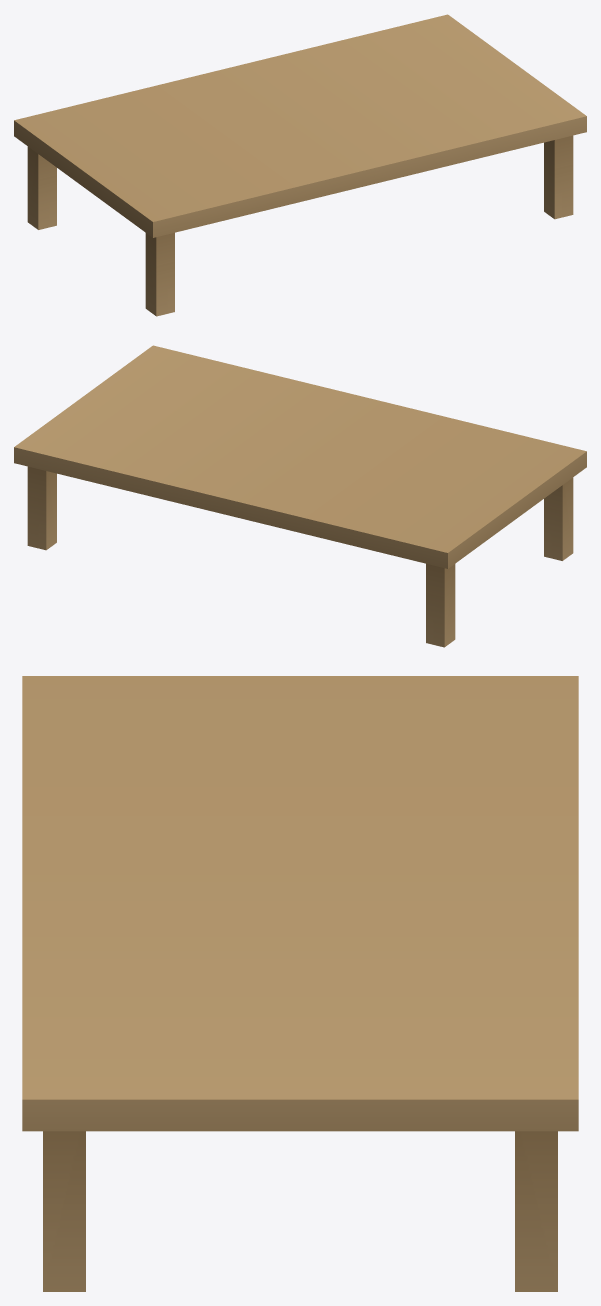
File: Kitchen Table.fbx
The picture shows the model from 3 angles, top to bottom: view 1: azimuth 30°, elevation 25°; view 2: azimuth 150°, elevation 25°; view 3: azimuth 270°, elevation 25°; orthographic projection. The views are drawn at different scales.
Visible parts, largest first — view 1: Kitchen Table; view 2: Kitchen Table; view 3: Kitchen Table.
Boxes of the visible parts, <box> form: Kitchen Table: <box>14,14,586,316</box>; Kitchen Table: <box>14,345,586,647</box>; Kitchen Table: <box>22,676,578,1291</box>.
Size of the model in its own units: 4.65 by 1.03 by 2.58.
1 material, 1 textured.
